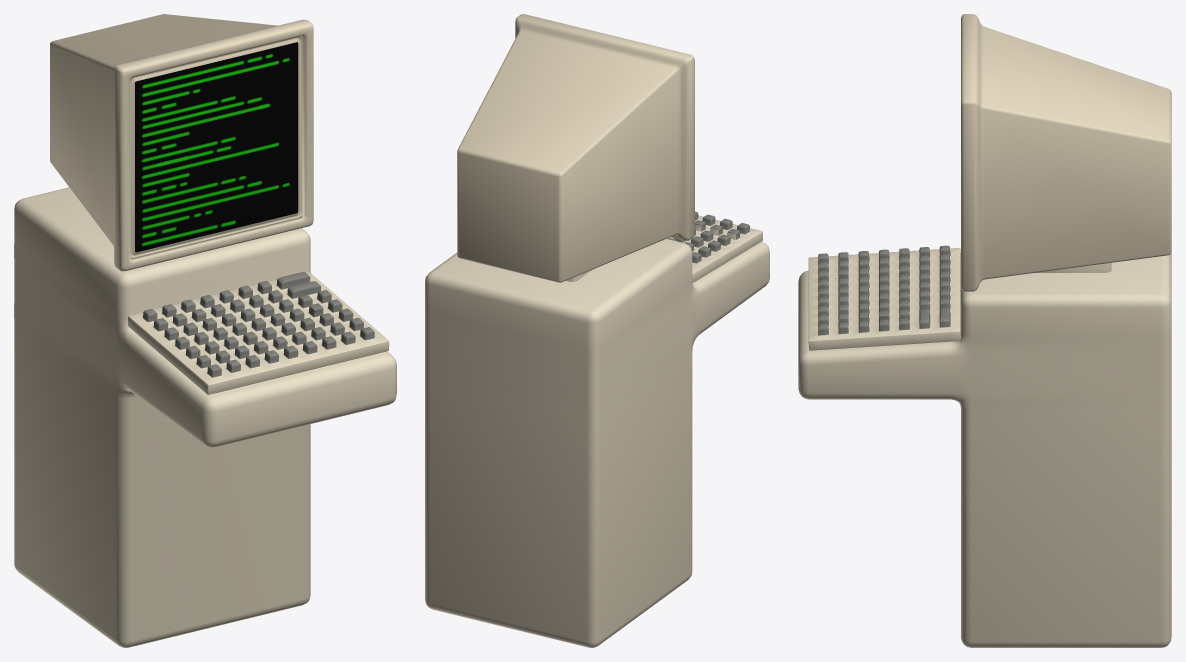
File: Console.fbx
3 renders of one model, left to right at view 1: azimuth 30°, elevation 25°; view 2: azimuth 150°, elevation 25°; view 3: azimuth 270°, elevation 25°, orthographic. The views are drawn at different scales.
Parts seen in each view (by area): view 1: Console Stand, Monitor, Keyboard; view 2: Console Stand, Monitor, Keyboard; view 3: Console Stand, Monitor, Keyboard.
Part boxes in pixels (box(x1,y1,x2,y2)): Console Stand: box(14, 187, 396, 647); Monitor: box(50, 14, 313, 271); Keyboard: box(127, 272, 389, 394); Console Stand: box(425, 239, 769, 647); Monitor: box(457, 14, 694, 282); Keyboard: box(667, 211, 762, 282); Console Stand: box(798, 252, 1171, 647); Monitor: box(961, 14, 1171, 291); Keyboard: box(808, 245, 960, 350).
Bounding box in the file's own units: 200 × 576 × 354.
